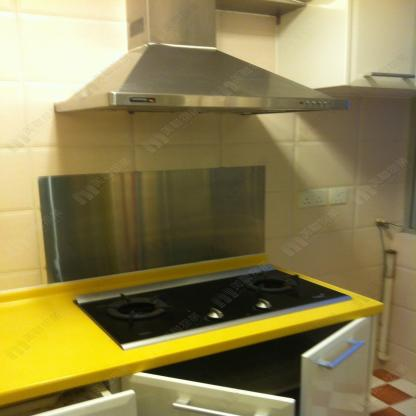Exhaust Hood: (52, 0, 346, 117)
Stove: (75, 262, 354, 351), (71, 263, 355, 350)
